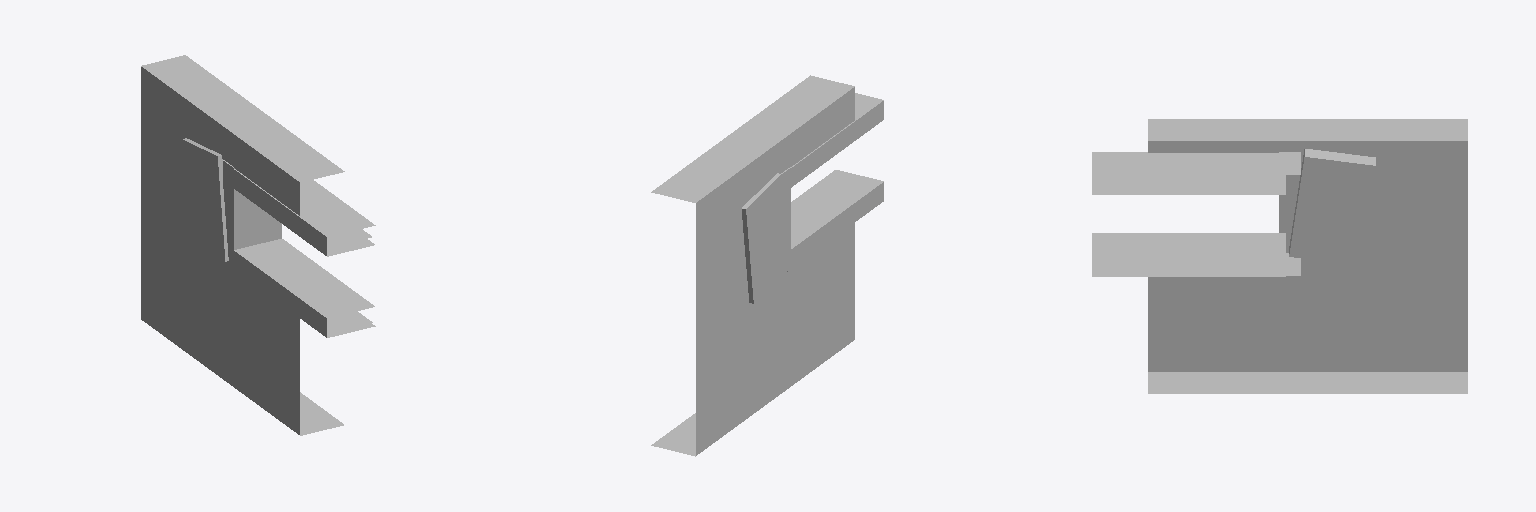
File: SHUTTER2.obj
3 renders of one model, left to right at view 1: azimuth 30°, elevation 25°; view 2: azimuth 150°, elevation 25°; view 3: azimuth 270°, elevation 25°, orthographic.
Parts seen in each view (by area): view 1: user; view 2: user; view 3: user.
Part boxes in pixels (x1,y1,x2,y2): user: (141, 55, 375, 435); user: (651, 75, 883, 456); user: (1092, 119, 1467, 393).
Bounding box in the file's own units: 27.84 × 129 × 174.